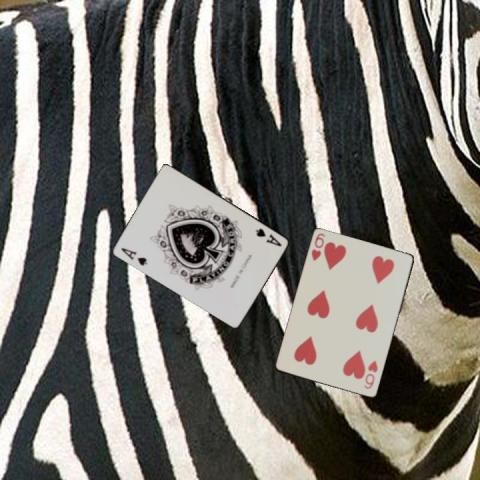6h: (361, 357, 380, 391), (308, 230, 327, 262)
As: (253, 225, 284, 248), (118, 244, 149, 267)
